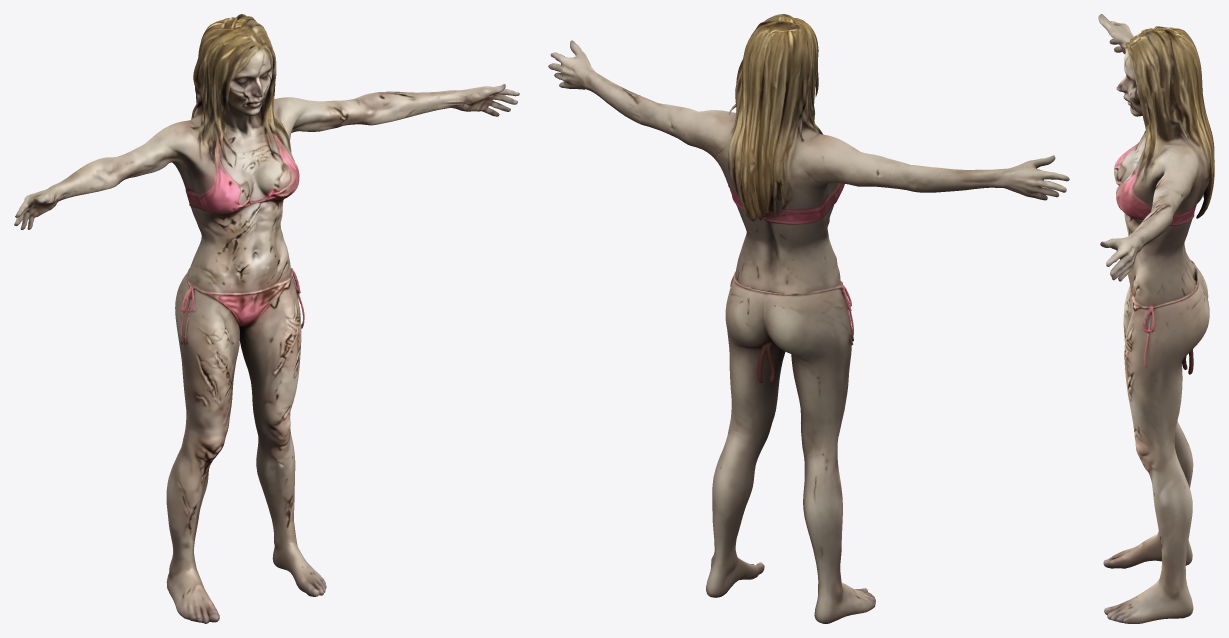
The model's file is lod_basic_shaded.fbx.
The picture shows the model from 3 angles, left to right: view 1: azimuth 30°, elevation 25°; view 2: azimuth 150°, elevation 25°; view 3: azimuth 270°, elevation 25°; orthographic projection. The views are drawn at different scales.
Visible parts, largest first — view 1: model_LOD0; view 2: model_LOD0; view 3: model_LOD0.
Part boxes in pixels (x1,y1,x2,y2): model_LOD0: (14, 14, 519, 623); model_LOD0: (548, 14, 1069, 623); model_LOD0: (1098, 14, 1214, 623).
Size of what is drawn, in the model's own units: 165 by 178 by 33.39.
